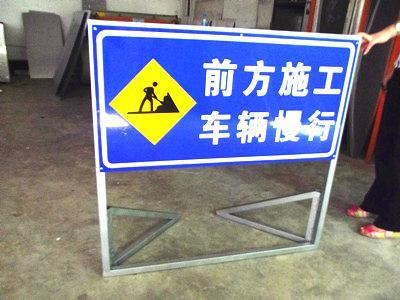sign: (91, 21, 347, 160)
